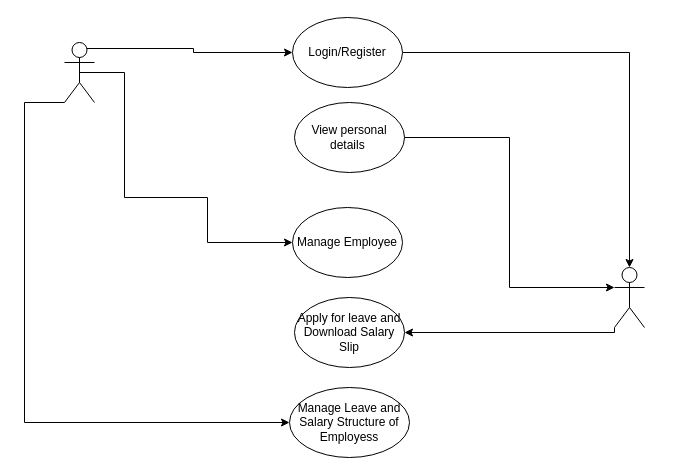
This 673x475 diagram has some shape labels left out. The shapes that lost their labels are listed below. From the top down, each one's centre as x and y in pixels, then its label:
pixel 79 72: Admin
pixel 629 297: Employee
